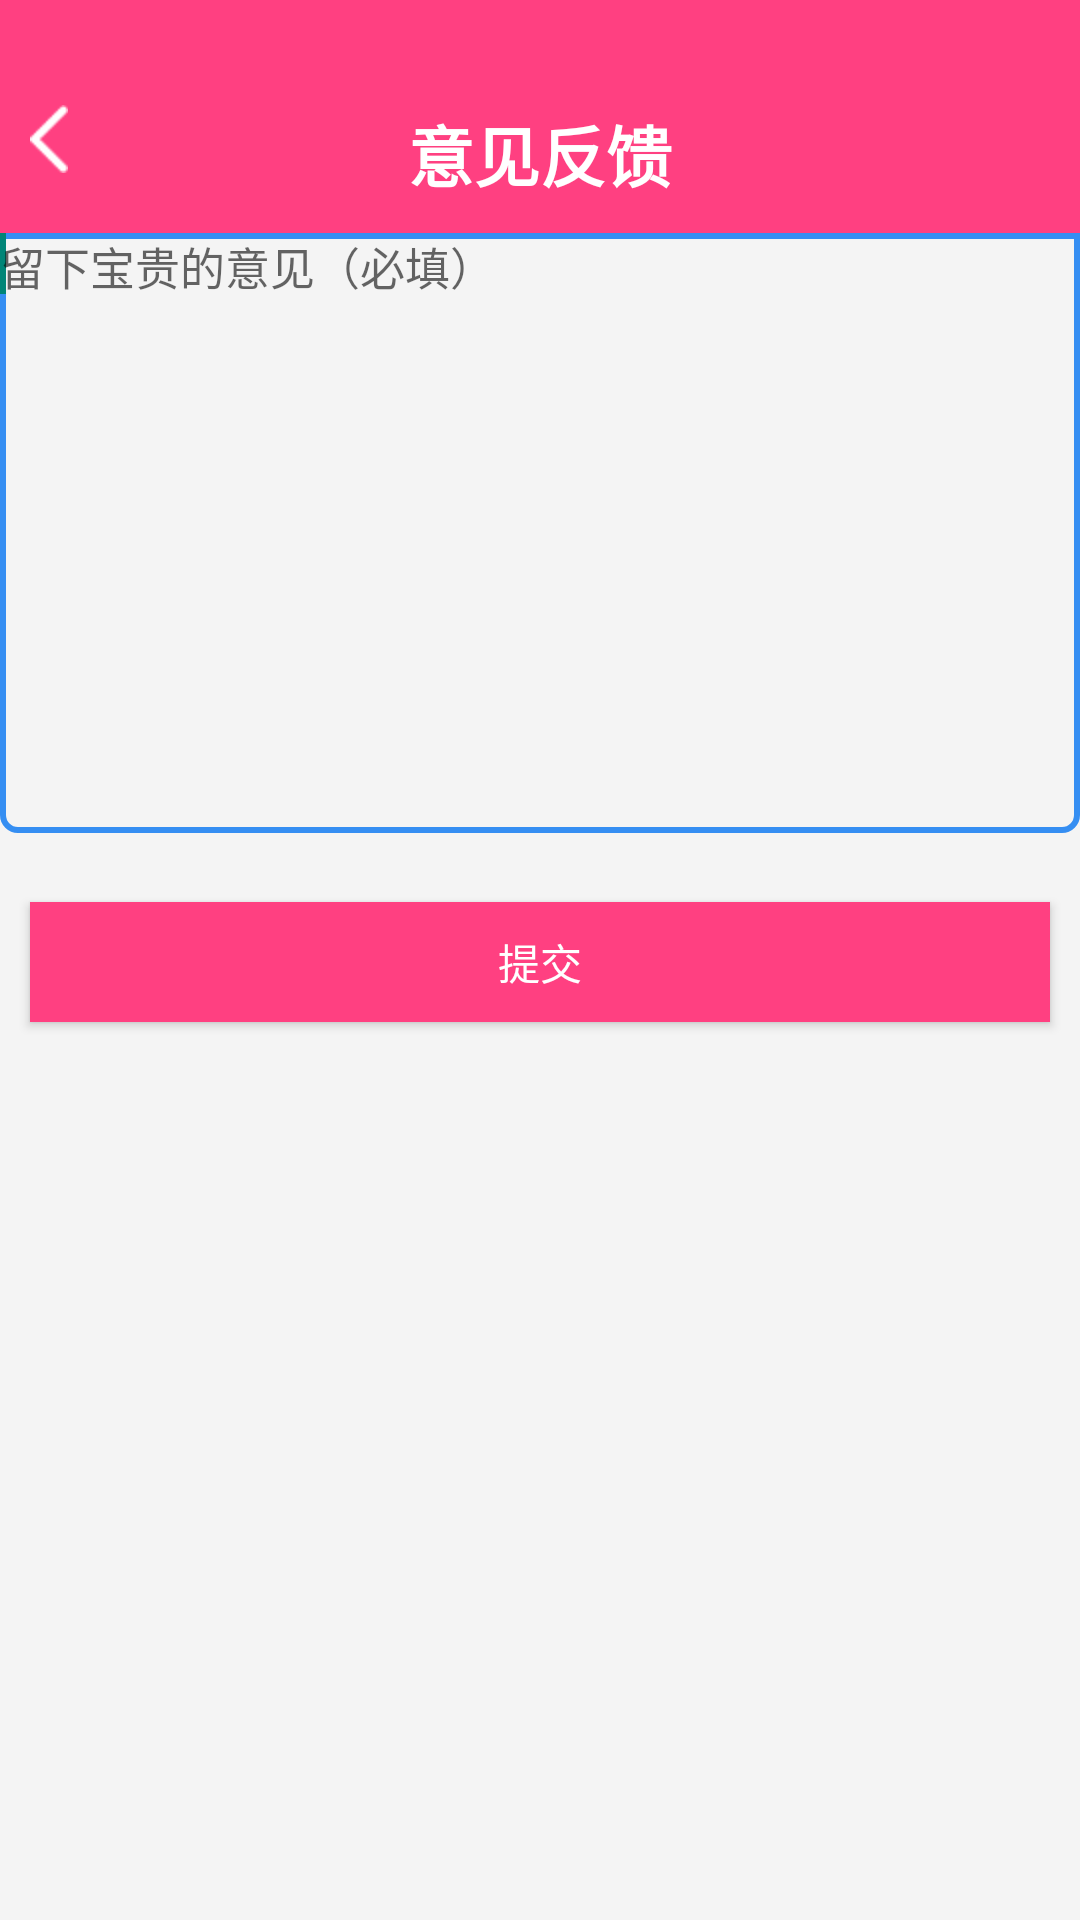

Locate icon controls on the screen. Image size 1080w x 1920h, boxes as (x1, y1, x2, y2).
chevron left: (30, 105, 68, 173)
